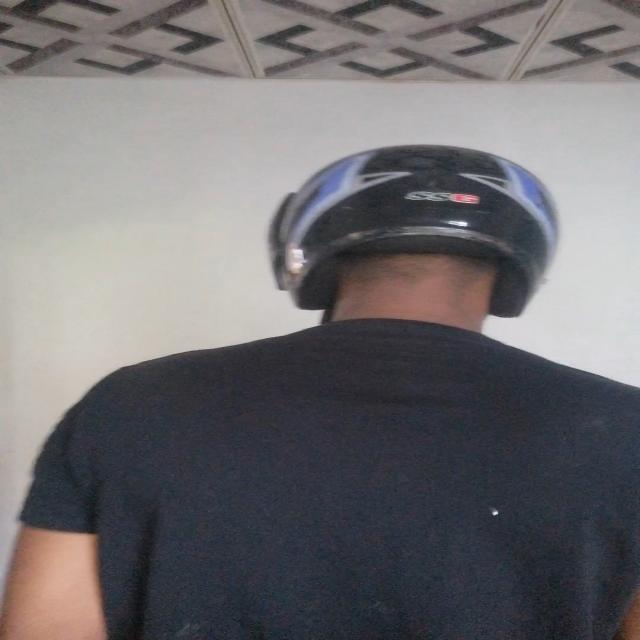Helmet_Wearer: (180, 115, 640, 457)
Person: (28, 130, 631, 640)
